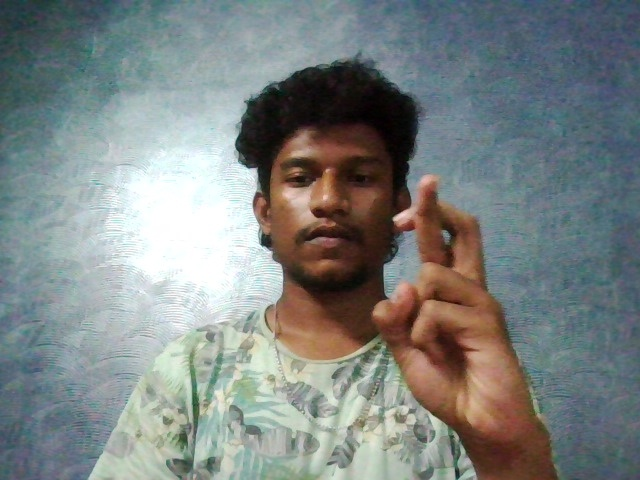hope: (364, 154, 563, 459)
